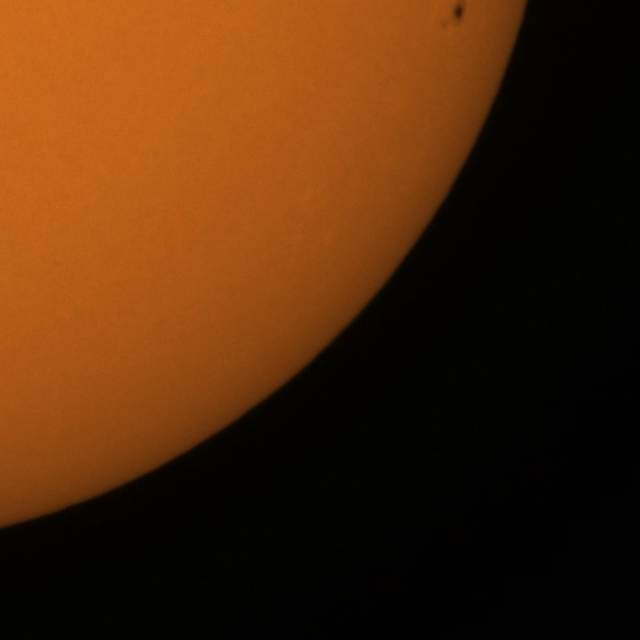sunspot: (438, 0, 467, 31)
